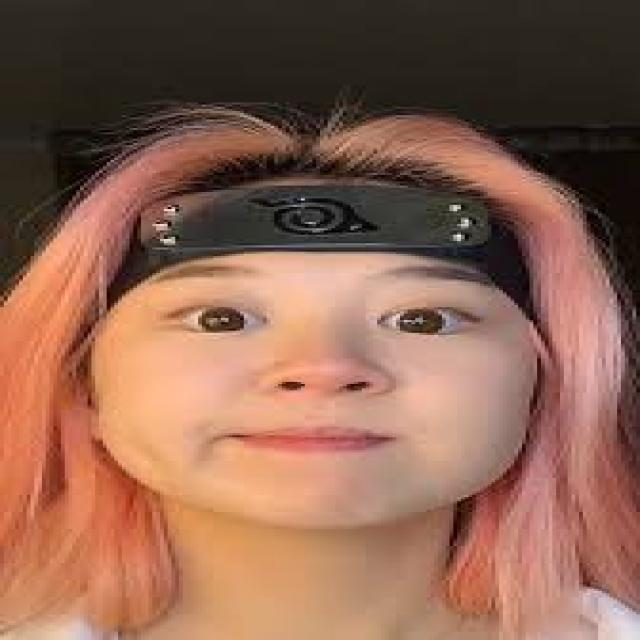person-without-mask: (11, 85, 640, 640)
